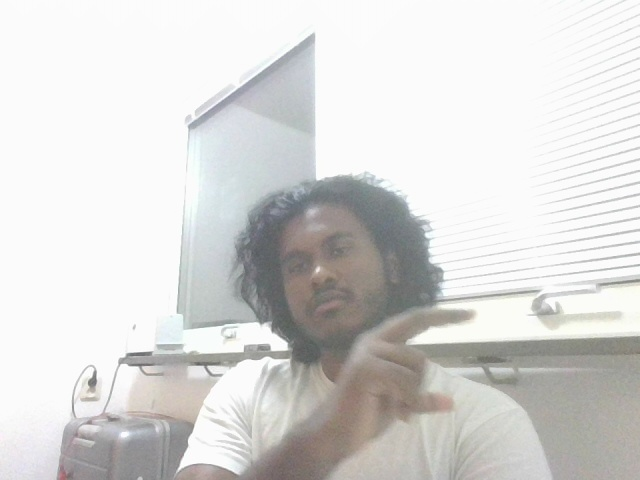no: (342, 294, 493, 444)
